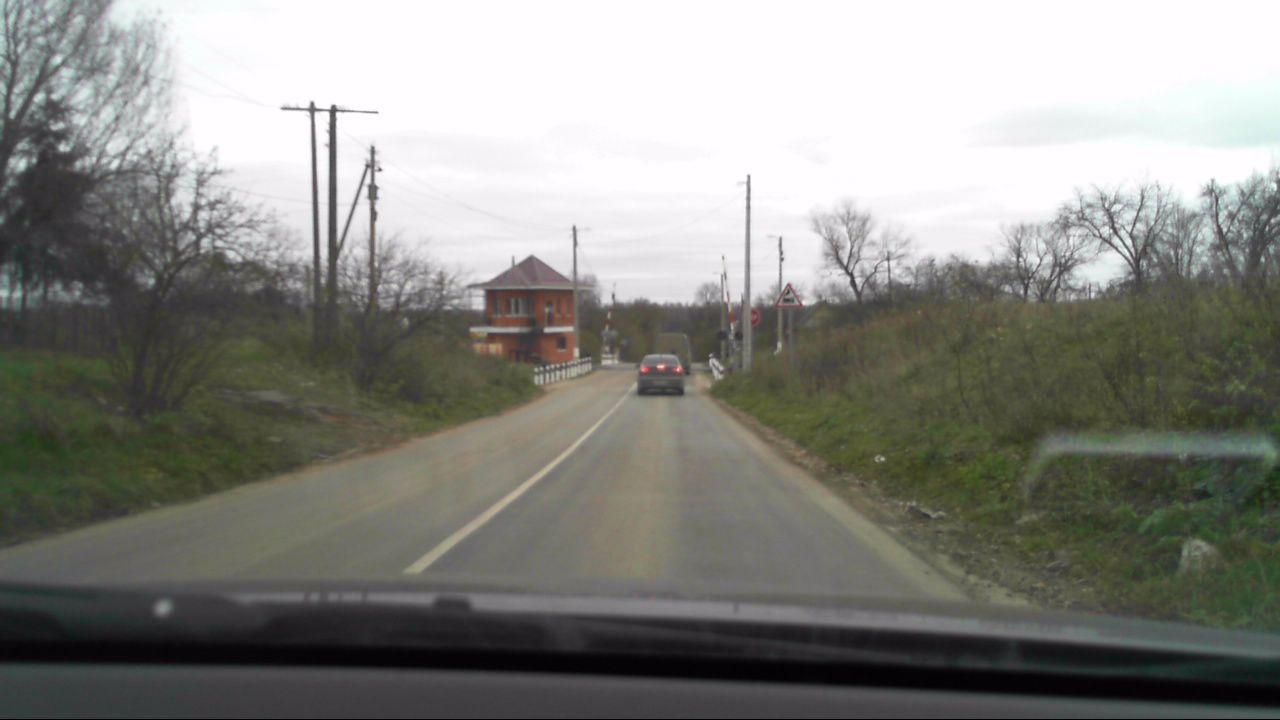1_2: (776, 283, 801, 309)
2_5: (744, 308, 760, 325)
